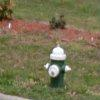Hydrant: (40, 31, 71, 94)
